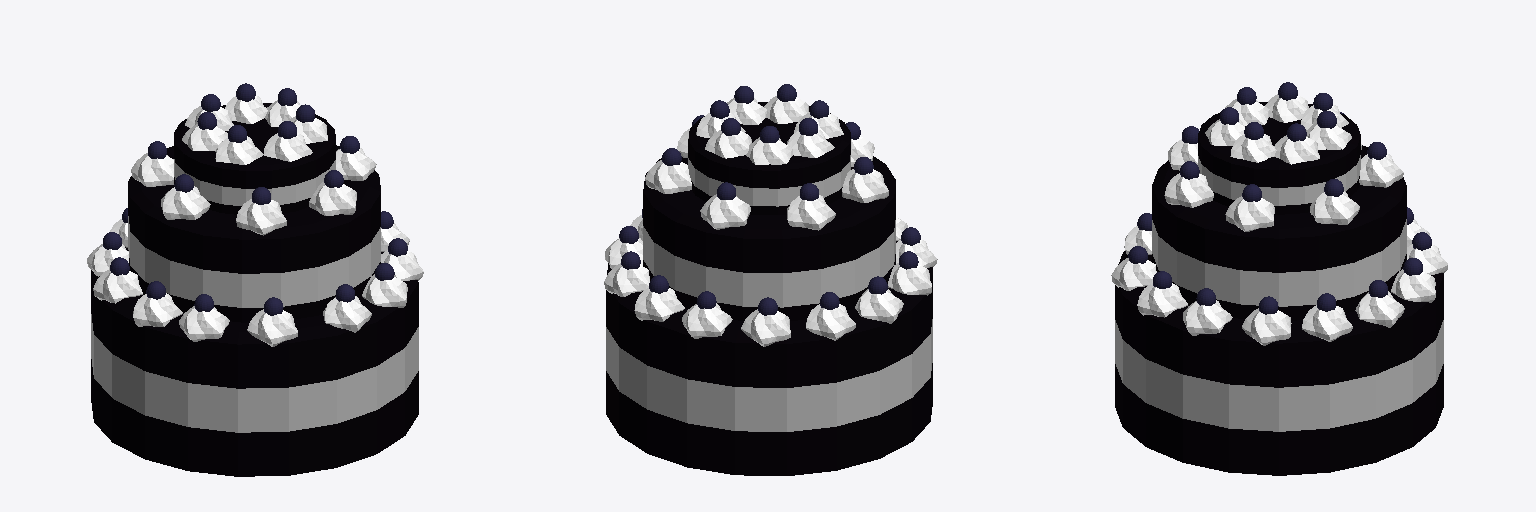
The model's file is Cake02.obj.
3 views of the same model, side by side, from view 1: azimuth 30°, elevation 25°; view 2: azimuth 150°, elevation 25°; view 3: azimuth 270°, elevation 25° (orthographic).
Parts seen in each view (by area): view 1: Cake02_Cylinder.080; view 2: Cake02_Cylinder.080; view 3: Cake02_Cylinder.080.
Boxes of the visible parts, x1,y1,x2,y2 form: Cake02_Cylinder.080: [87, 83, 423, 476]; Cake02_Cylinder.080: [604, 84, 937, 475]; Cake02_Cylinder.080: [1111, 82, 1447, 475].
Bounding box in the file's own units: 8.68 × 8.7 × 8.79.